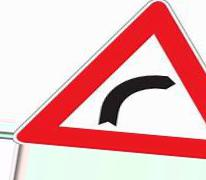right: (13, 1, 206, 155)
